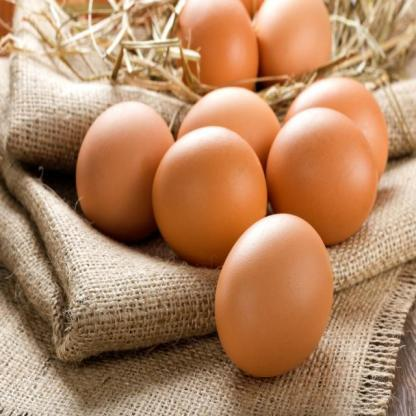egg: (150, 69, 288, 269), (218, 207, 351, 378), (273, 70, 389, 231), (70, 80, 182, 235)
